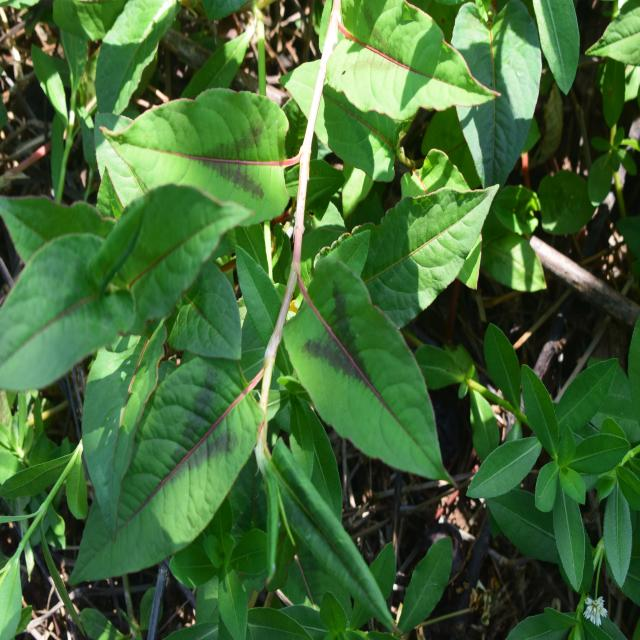Chinese_knotweed: (127, 44, 429, 547)
